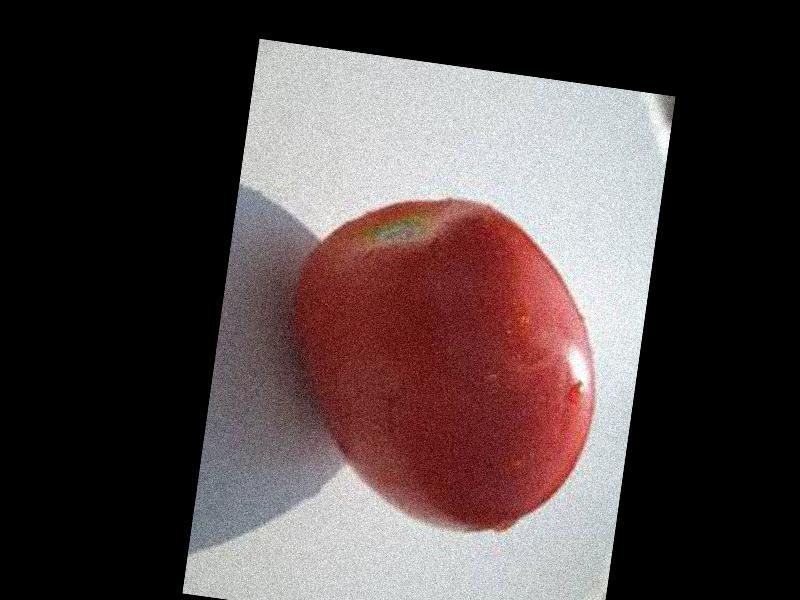Tomato: (268, 179, 620, 545)
